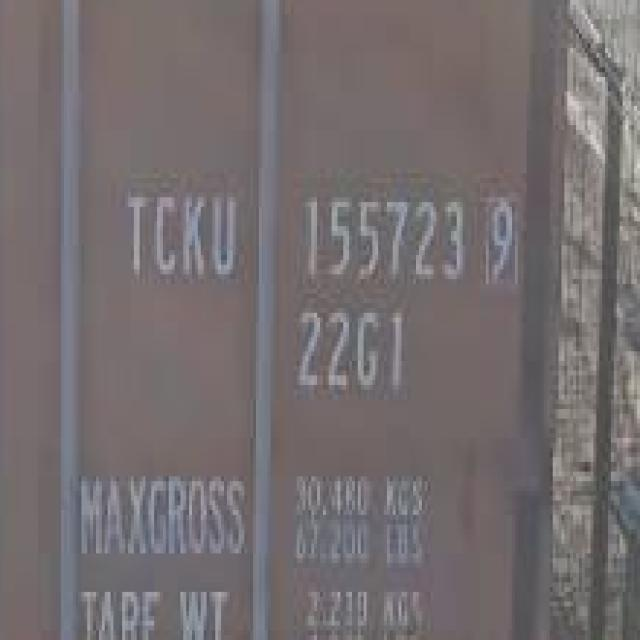dv: (473, 180, 525, 285)
owner: (121, 179, 245, 293)
serial: (292, 179, 468, 290)
size: (289, 304, 413, 402)
